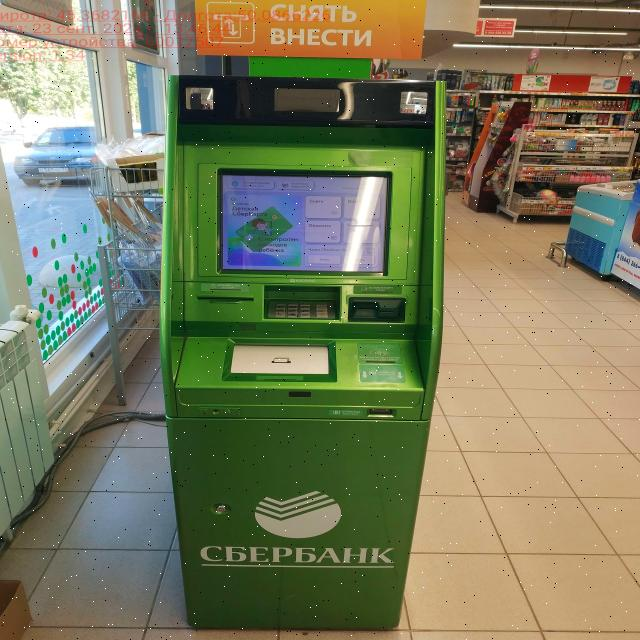bank: (168, 0, 444, 631)
